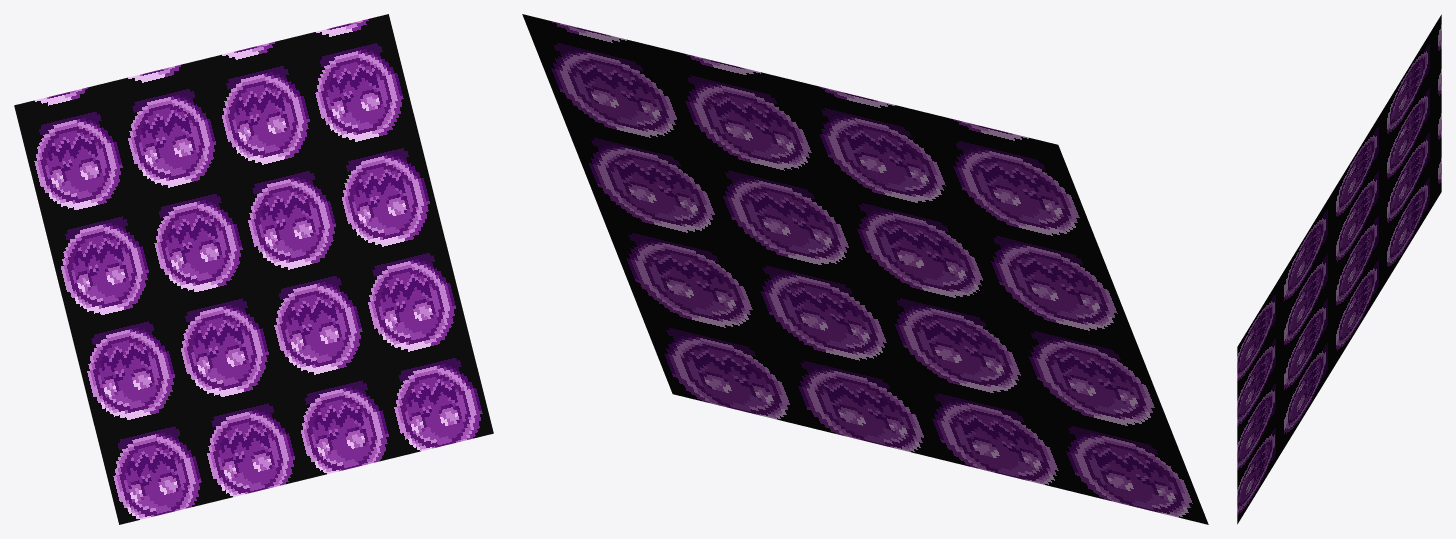
Rendered from 0131uma_kimo_coi.gltf.
The picture shows the model from 3 angles, left to right: view 1: azimuth 30°, elevation 25°; view 2: azimuth 150°, elevation 25°; view 3: azimuth 270°, elevation 25°; orthographic projection. The views are drawn at different scales.
Visible parts, largest first — view 1: 0131uma_kimo_coi; view 2: 0131uma_kimo_coi; view 3: 0131uma_kimo_coi.
Boxes of the visible parts, <box> form: 0131uma_kimo_coi: <box>14,14,493,524</box>; 0131uma_kimo_coi: <box>522,14,1208,524</box>; 0131uma_kimo_coi: <box>1237,14,1441,524</box>.
Bounding box in the file's own units: 0.844 × 0.7375 × 0.4104.
1 material, 1 textured.
